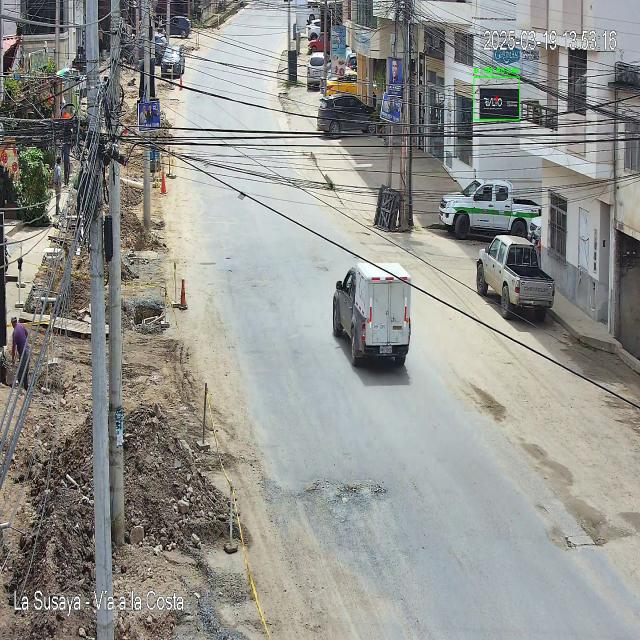CMT: (332, 261, 414, 374), (476, 234, 554, 320)
